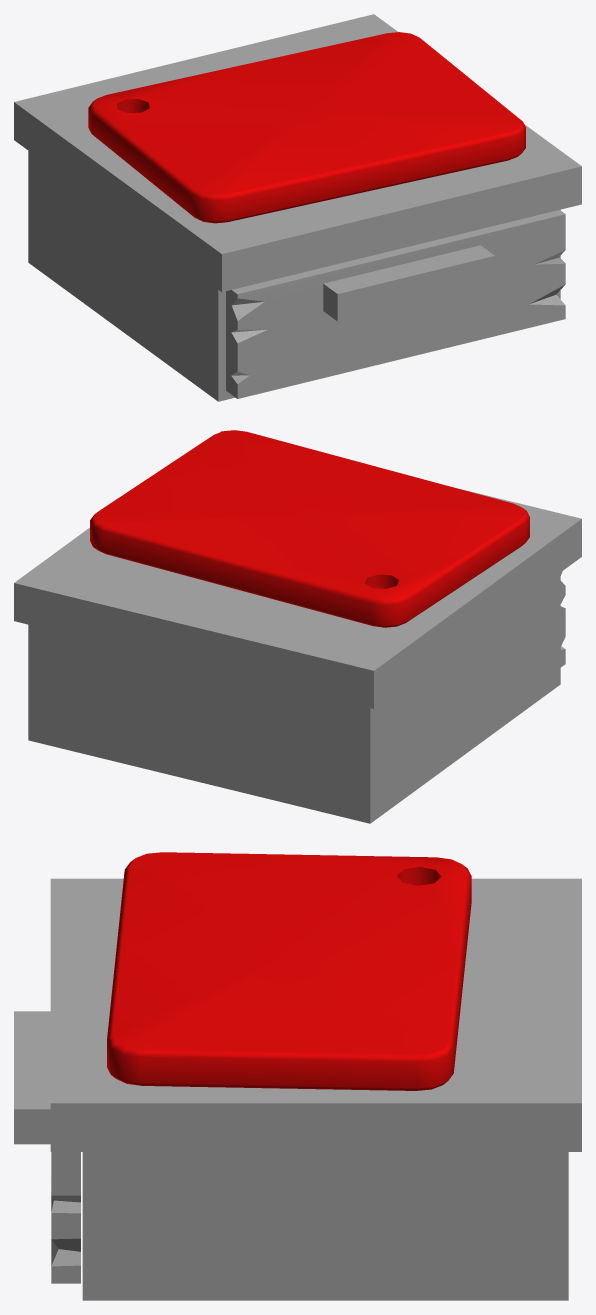
File: choppingboard_Fishmarket_mesh.fbx
3 views of the same model, one above another, from view 1: azimuth 30°, elevation 25°; view 2: azimuth 150°, elevation 25°; view 3: azimuth 270°, elevation 25° (orthographic). The views are drawn at different scales.
Visible parts, largest first — view 1: choppingboard_Fishmarket_mesh; view 2: choppingboard_Fishmarket_mesh; view 3: choppingboard_Fishmarket_mesh.
Part boxes in pixels (x1=…): choppingboard_Fishmarket_mesh: x1=14, y1=14, x2=581, y2=401; choppingboard_Fishmarket_mesh: x1=14, y1=430, x2=581, y2=823; choppingboard_Fishmarket_mesh: x1=14, y1=852, x2=581, y2=1300.
Bounding box in the file's own units: 1 × 0.4988 × 1.07.
